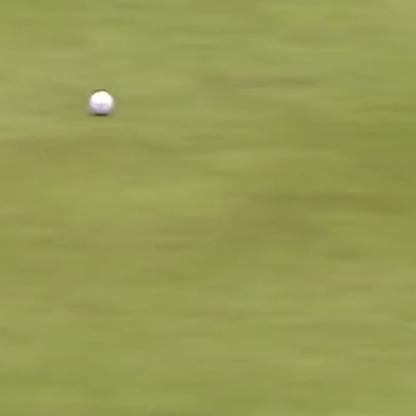golfball: (86, 87, 114, 112)
